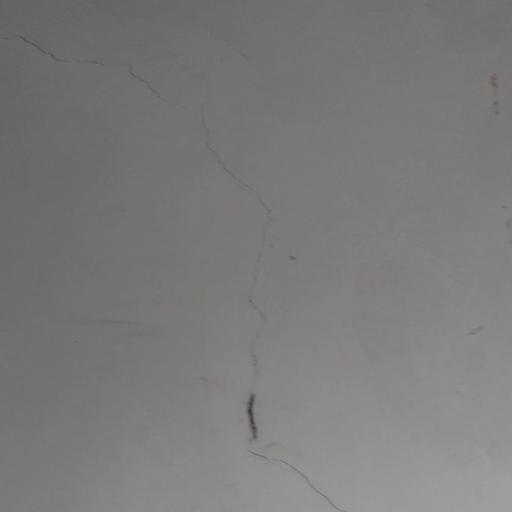minor_crack: (8, 3, 349, 512)
